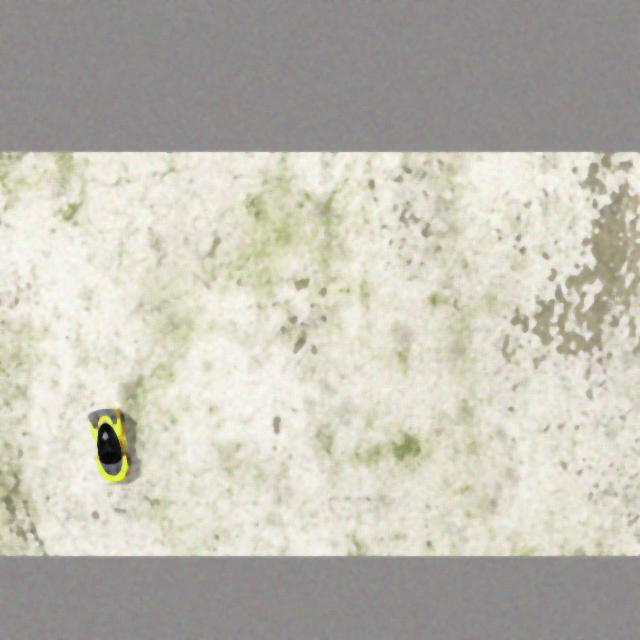car: (84, 405, 136, 487)
